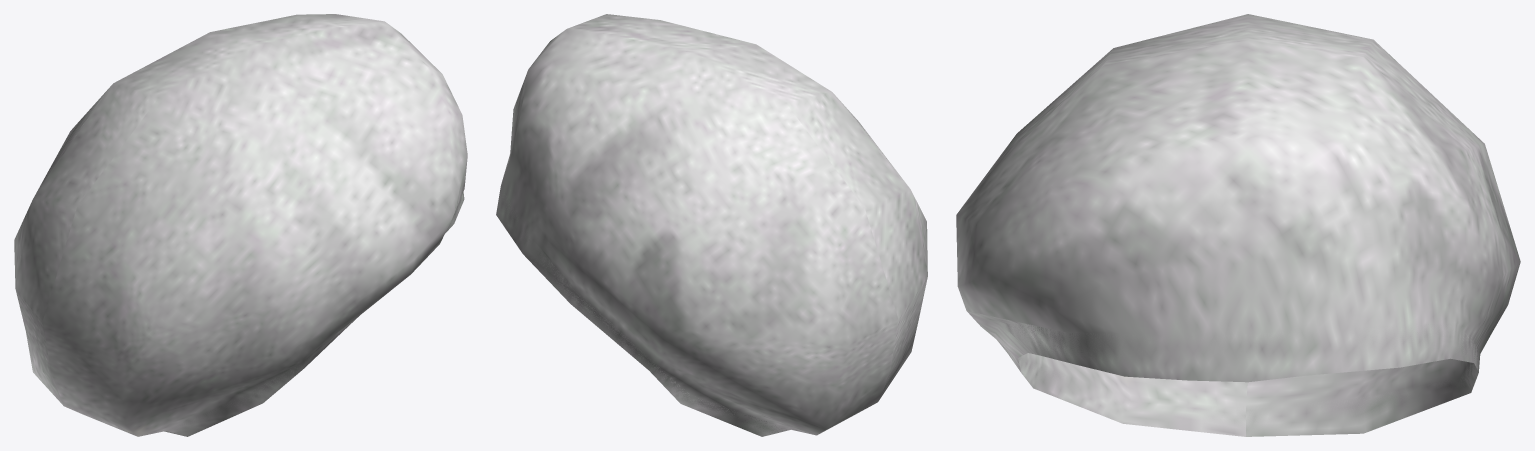
File: hat_0450052.FBX
The picture shows the model from 3 angles, left to right: view 1: azimuth 30°, elevation 25°; view 2: azimuth 150°, elevation 25°; view 3: azimuth 270°, elevation 25°; orthographic projection. The views are drawn at different scales.
Visible parts, largest first — view 1: hat_0450052; view 2: hat_0450052; view 3: hat_0450052.
Part boxes in pixels (bbox=[...]): hat_0450052: bbox=[14, 14, 467, 436]; hat_0450052: bbox=[496, 14, 927, 436]; hat_0450052: bbox=[956, 14, 1520, 436].
Size of the model in its own units: 26.62 by 22.52 by 23.94.
